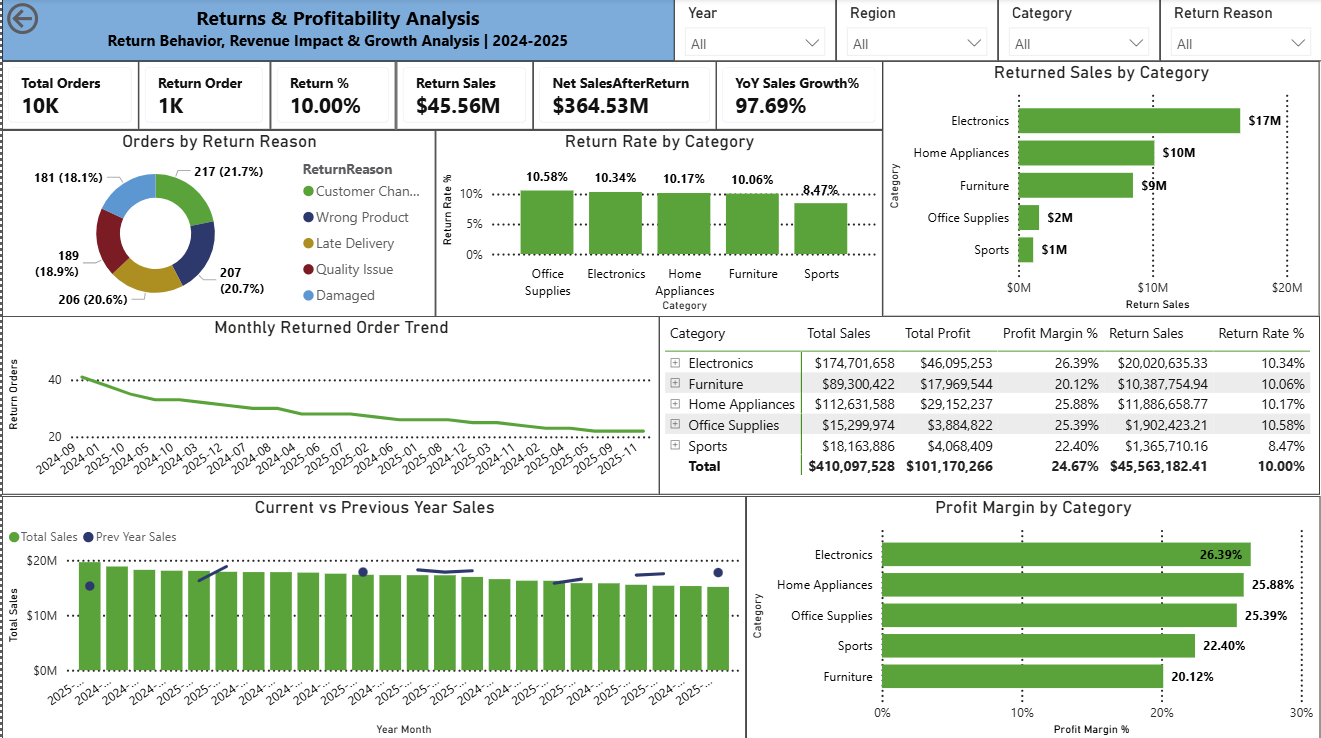

The page's visual inventory and layout, read from the dashboard file:
{"tool":"powerbi","page":{"name":"Return & Profitability","canvas":[1280,720],"ordinal":5},"visuals":[{"type":"textbox","box":[0,0,652.5,61.5],"z":0},{"type":"cardVisual","fields":{"Data":["Orders.Total Orders"]},"box":[0,61.5,132.8,66.4],"z":1000},{"type":"cardVisual","fields":{"Data":["Returns.Return Orders"]},"box":[132.8,61.5,127.9,66.4],"z":2000},{"type":"cardVisual","fields":{"Data":["Returns.Return Rate %"]},"box":[260.7,61.5,121.4,66.4],"z":3000},{"type":"cardVisual","fields":{"Data":["Returns.Return Sales"]},"box":[382.1,61.5,132.8,66.4],"z":4000},{"type":"cardVisual","fields":{"Data":["Returns.Net Sales After Returns"]},"box":[514.9,61.5,178.1,66.4],"z":5000},{"type":"donutChart","title":"Orders by Return Reason","fields":{"Category":["Returns.ReturnReason"],"Y":["Returns.Return Orders"]},"box":[0,127.9,421,181.4],"z":6000},{"type":"clusteredColumnChart","title":"Return Rate by Category","fields":{"Category":["Products.Category"],"Y":["Returns.Return Rate %"]},"box":[421,127.9,434,181.4],"z":7000},{"type":"barChart","title":"Returned Sales by Category","fields":{"Category":["Products.Category"],"Y":["Returns.Return Sales"]},"box":[855,61.5,424.2,247.7],"z":8000},{"type":"lineChart","title":"Monthly Returned Order Trend","fields":{"Category":["DimDate.Year Month"],"Y":["Returns.Return Orders"]},"box":[0,309.3,638,173.3],"z":9000},{"type":"clusteredBarChart","title":"Profit Margin by Category","fields":{"Category":["Products.Category"],"Y":["Orders.Profit Margin %"]},"box":[722.2,482.5,557,238],"z":10000},{"type":"cardVisual","fields":{"Data":["Returns.YoY Sales Growth %"]},"box":[693,61.5,161.9,66.4],"z":11000},{"type":"slicer","fields":{"Values":["Customers.Region"]},"box":[809.6,0,157.1,61.5],"z":12000},{"type":"slicer","fields":{"Values":["Returns.ReturnReason"]},"box":[1123.7,0,157.1,61.5],"z":13000},{"type":"slicer","fields":{"Values":["Products.Category"]},"box":[966.7,0,157.1,61.5],"z":14000},{"type":"lineClusteredColumnComboChart","title":"Current vs Previous Year Sales","fields":{"Y":["Orders.Total Sales"],"Category":["DimDate.Year Month"],"Y2":["Returns.Prev Year Sales"]},"box":[0,482.5,722.2,238],"z":15000},{"type":"slicer","fields":{"Values":["DimDate.Year"]},"box":[652.5,0,157.1,61.5],"z":16000},{"type":"pivotTable","fields":{"Rows":["Products.Category","Products.SubCategory"],"Values":["Orders.Total Sales","Orders.Total Profit","Orders.Profit Margin %","Returns.Return Sales","Returns.Return Rate %"]},"box":[638,309.3,641.2,173.3],"z":17000},{"type":"actionButton","box":[0,0,100,40],"z":17001}]}

Visuals, with their boxes in screenshot pixels (x1, y1, x2, y2), scaled from the page's 1280x720 canvas onto the 1321x738 screenshot:
textbox: [left=0, top=0, right=673, bottom=63]
cardVisual - Orders.Total Orders: [left=0, top=63, right=137, bottom=131]
cardVisual - Returns.Return Orders: [left=137, top=63, right=269, bottom=131]
cardVisual - Returns.Return Rate %: [left=269, top=63, right=394, bottom=131]
cardVisual - Returns.Return Sales: [left=394, top=63, right=531, bottom=131]
cardVisual - Returns.Net Sales After Returns: [left=531, top=63, right=715, bottom=131]
"Orders by Return Reason" donutChart: [left=0, top=131, right=434, bottom=317]
"Return Rate by Category" clusteredColumnChart: [left=434, top=131, right=882, bottom=317]
"Returned Sales by Category" barChart: [left=882, top=63, right=1320, bottom=317]
"Monthly Returned Order Trend" lineChart: [left=0, top=317, right=658, bottom=495]
"Profit Margin by Category" clusteredBarChart: [left=745, top=495, right=1320, bottom=737]
cardVisual - Returns.YoY Sales Growth %: [left=715, top=63, right=882, bottom=131]
slicer - Customers.Region: [left=836, top=0, right=998, bottom=63]
slicer - Returns.ReturnReason: [left=1160, top=0, right=1320, bottom=63]
slicer - Products.Category: [left=998, top=0, right=1160, bottom=63]
"Current vs Previous Year Sales" lineClusteredColumnComboChart: [left=0, top=495, right=745, bottom=737]
slicer - DimDate.Year: [left=673, top=0, right=836, bottom=63]
pivotTable - Products.Category x Products.SubCategory: [left=658, top=317, right=1320, bottom=495]
actionButton: [left=0, top=0, right=103, bottom=41]
